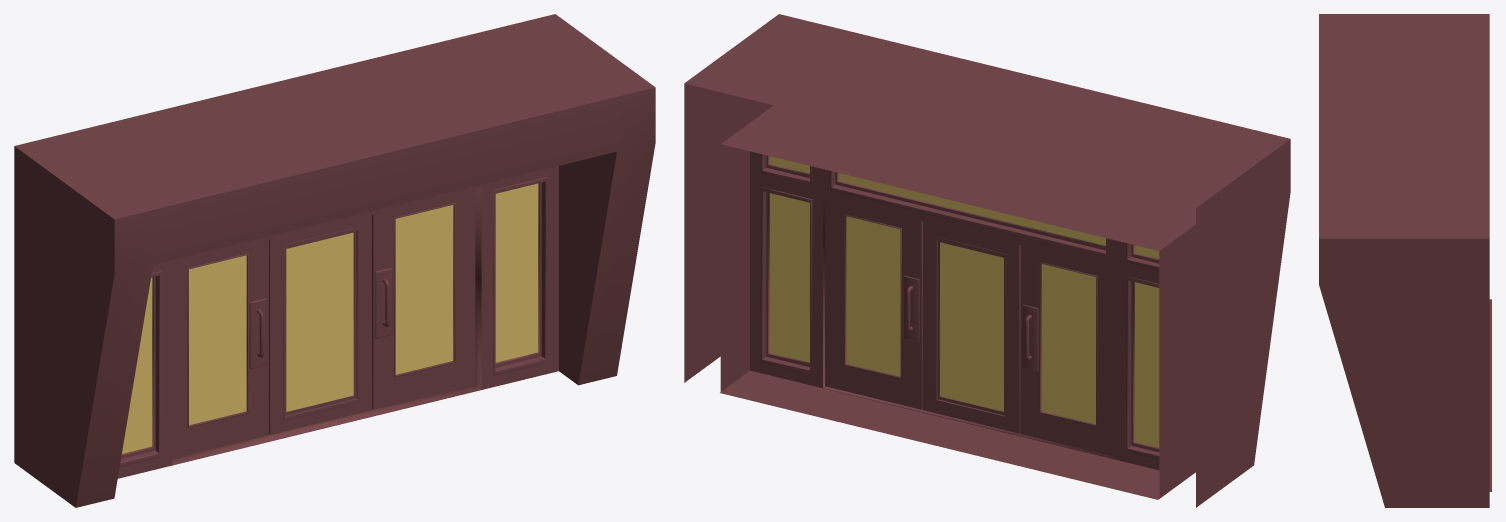
Rendered from School front door.fbx.
The picture shows the model from 3 angles, left to right: view 1: azimuth 30°, elevation 25°; view 2: azimuth 150°, elevation 25°; view 3: azimuth 270°, elevation 25°; orthographic projection. The views are drawn at different scales.
Parts seen in each view (by area): view 1: Cube.009, Vert, Door.003, Door.004, Window 2.005, Plane.041, Test wall 1.022; view 2: Cube.009, Door.003, Vert, Door.004, Window 2.005, Cube.027, Plane.041, Window 2.004, Window 2.006, Test wall 1.022; view 3: Cube.009, Cube.027.
Boxes of the visible parts, <box> form: Cube.009: <box>14,14,655,507</box>; Vert: <box>372,189,475,409</box>; Door.003: <box>269,214,371,434</box>; Door.004: <box>172,239,268,458</box>; Window 2.005: <box>119,177,547,466</box>; Plane.041: <box>117,166,558,478</box>; Test wall 1.022: <box>172,188,481,465</box>; Cube.009: <box>684,14,1290,507</box>; Door.003: <box>922,221,1020,433</box>; Vert: <box>825,197,922,409</box>; Door.004: <box>1020,245,1115,456</box>; Window 2.005: <box>761,187,1159,459</box>; Cube.027: <box>720,370,1159,499</box>; Plane.041: <box>750,151,1159,470</box>; Window 2.004: <box>830,171,1108,257</box>; Window 2.006: <box>761,154,1159,270</box>; Test wall 1.022: <box>823,197,1115,459</box>; Cube.009: <box>1319,14,1489,507</box>; Cube.027: <box>1489,299,1491,491</box>.
Size of the model in its own units: 7 by 3.92 by 2.28.
